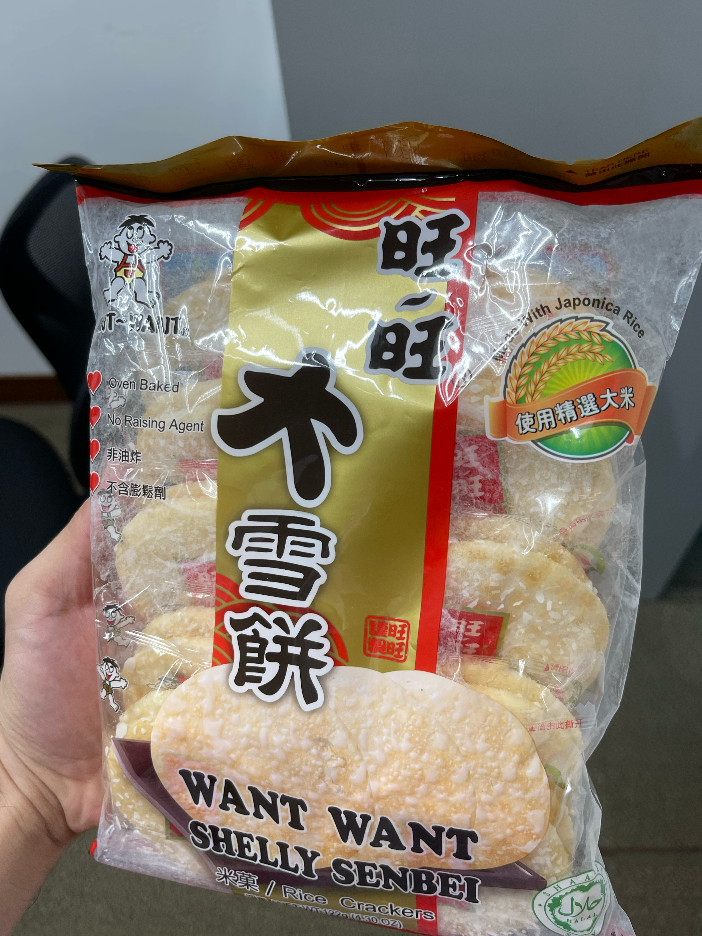crackers_100g-199g: (109, 204, 596, 905)
